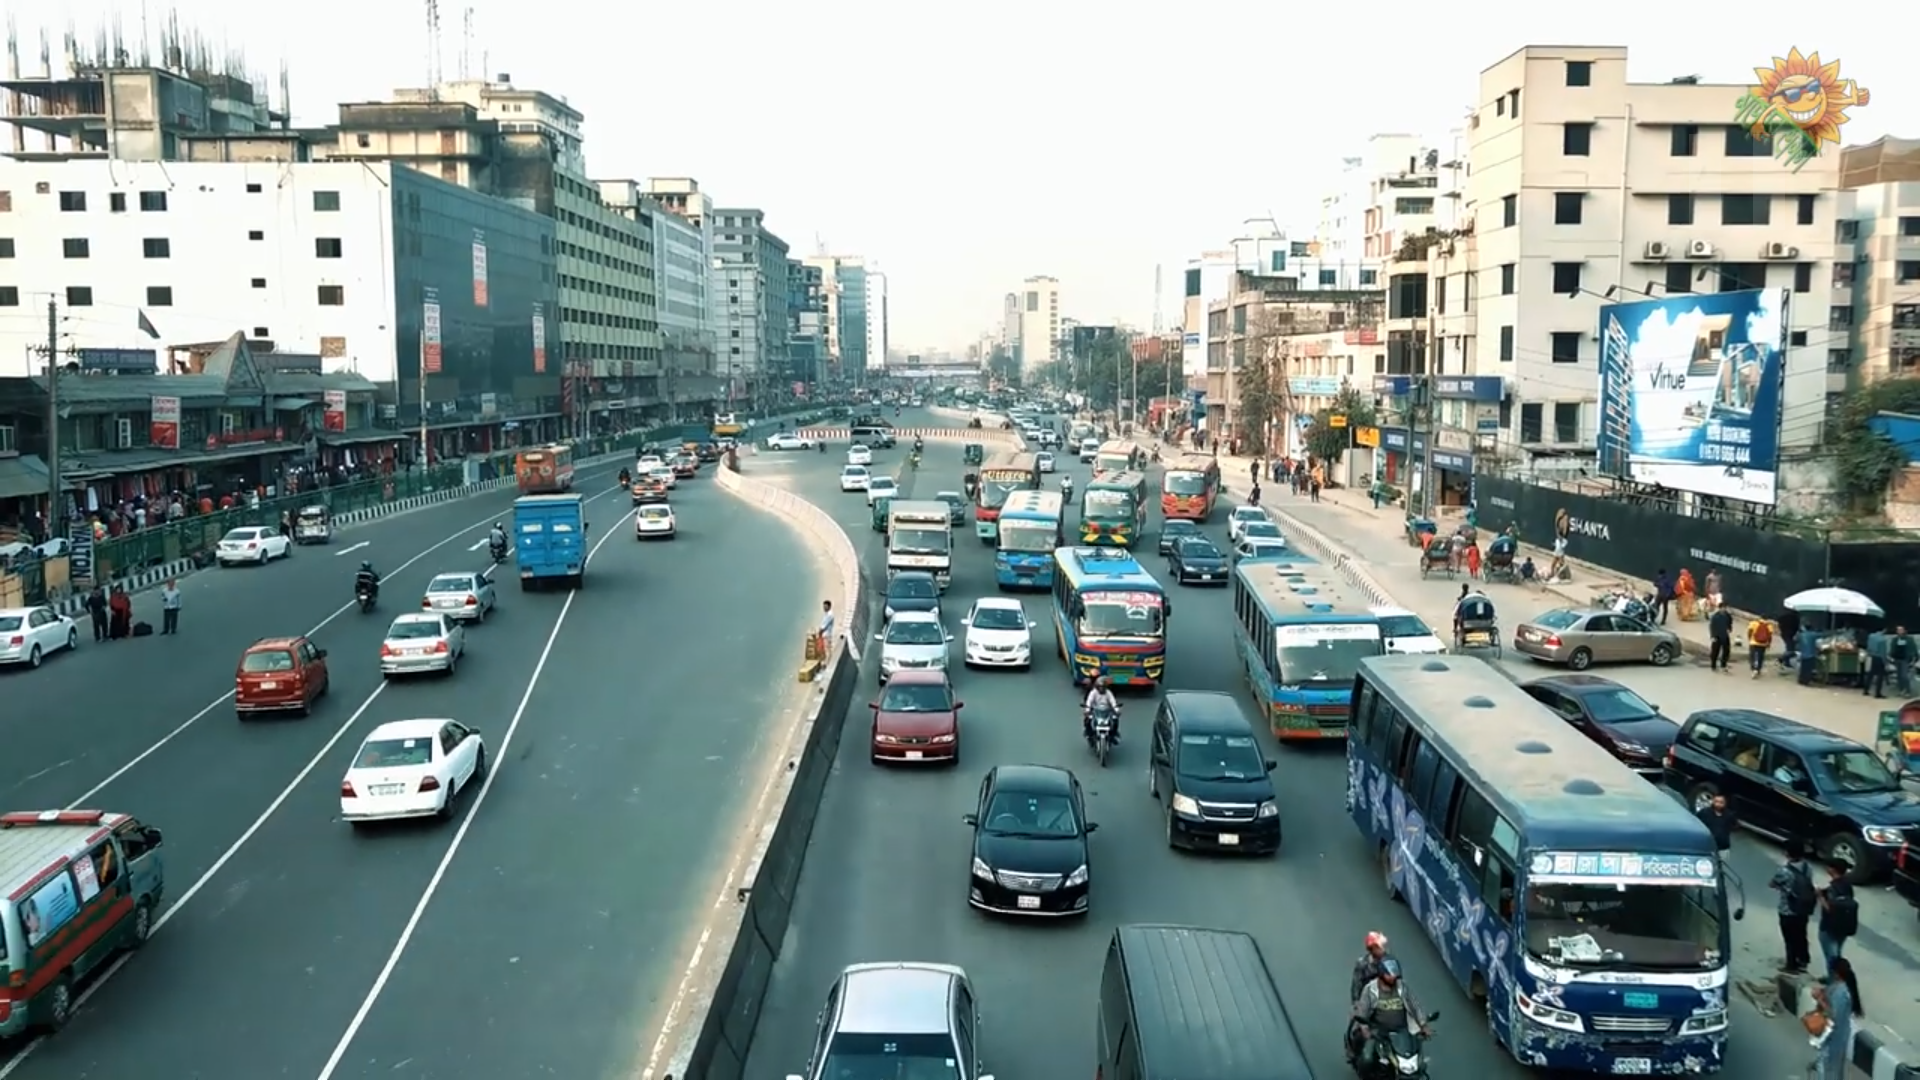MotorCycle: (1340, 919, 1441, 1080), (1065, 674, 1133, 771)
